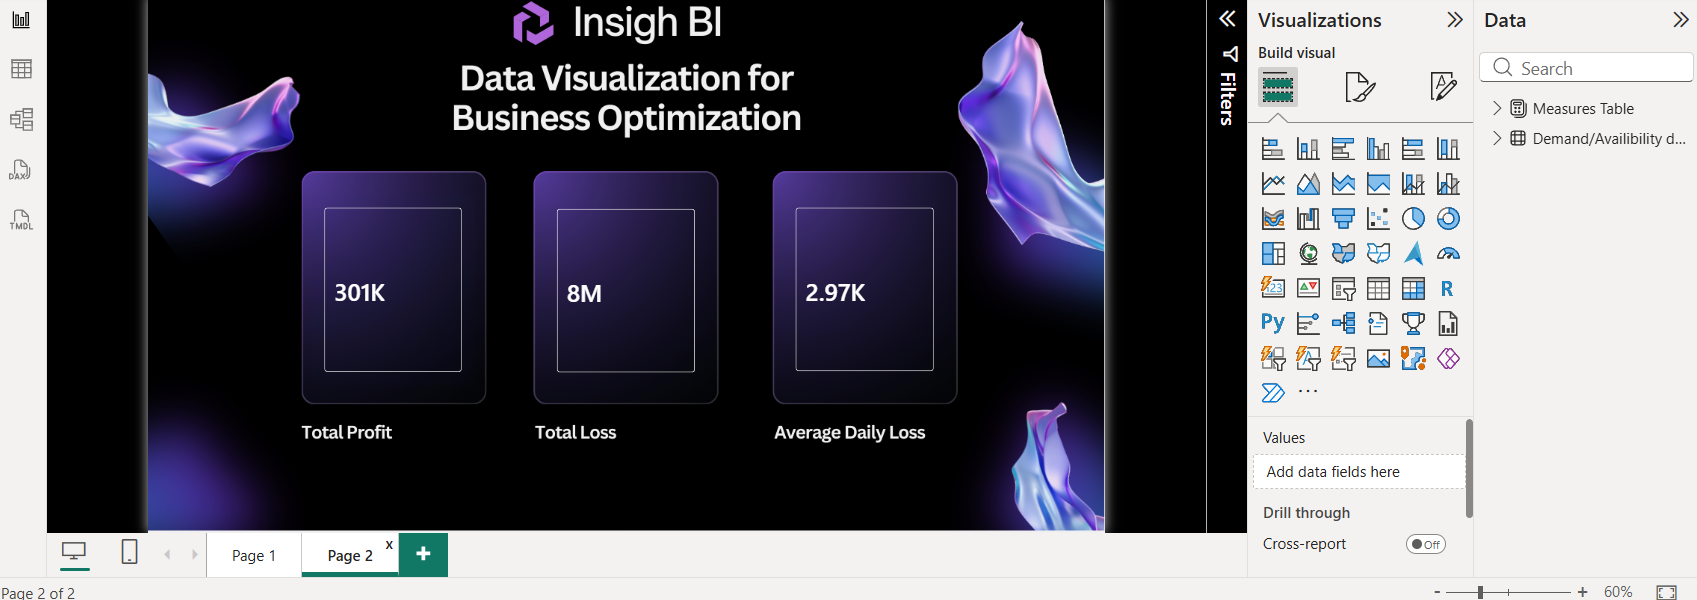

What the dashboard file says about the page in this screenshot:
{"tool":"powerbi","page":{"name":"Page 2","canvas":[1280,720],"ordinal":1},"visuals":[{"type":"cardVisual","fields":{"Data":["Measures Table.Total Profit"]},"box":[219.6,267.8,218.4,254.6],"z":0},{"type":"cardVisual","fields":{"Data":["Measures Table.Total Loss"]},"box":[529.6,269,219.6,253.4],"z":1000},{"type":"cardVisual","fields":{"Data":["Measures Table.Average Loss Per Day"]},"box":[850.5,267.8,219.6,253.4],"z":2000}]}

Visuals, with their boxes on the page's 1280x720 design canvas (x1, y1, x2, y2). These are canvas units, not pixel positions in the 1697x600 screenshot, which may show the page scaled, cropped or inside an application window:
cardVisual - Measures Table.Total Profit: BBox(220, 268, 438, 522)
cardVisual - Measures Table.Total Loss: BBox(530, 269, 749, 522)
cardVisual - Measures Table.Average Loss Per Day: BBox(850, 268, 1070, 521)
